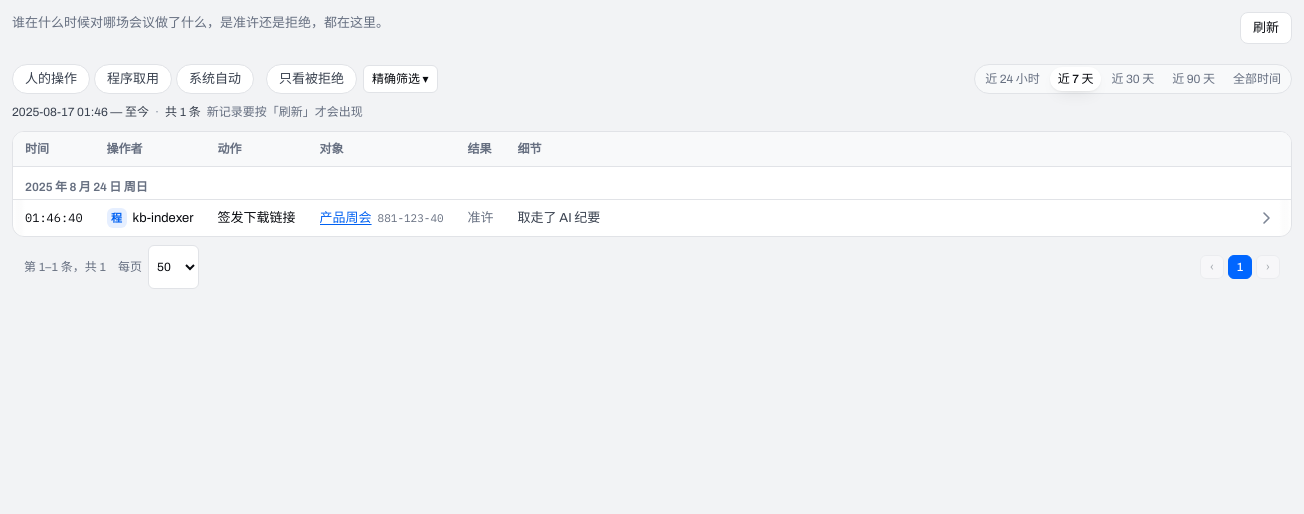
审计条目 › 展开区里缺的字段说成缺，不填默认值
Click the button named "完整记录" at (1267, 218), box [1255,206,1279,230]
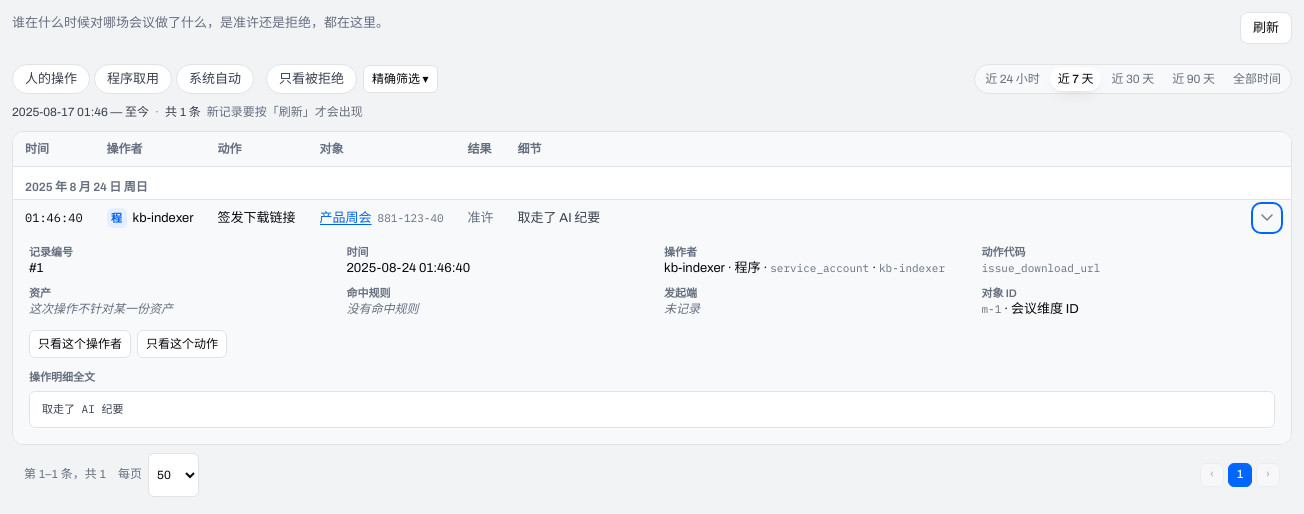
Expected: the element with test id "audit-expanded-1" shows "不针对某一份资产", [29,302,173,316]
Expected: the element with test id "audit-expanded-1" shows "没有命中规则", [346,302,418,316]
Expected: the element with test id "audit-expanded-1" shows "未记录", [664,302,700,316]
